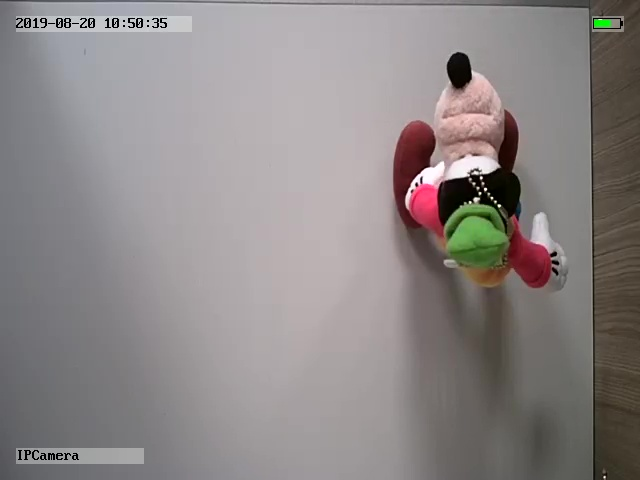goofy: (393, 51, 569, 291)
